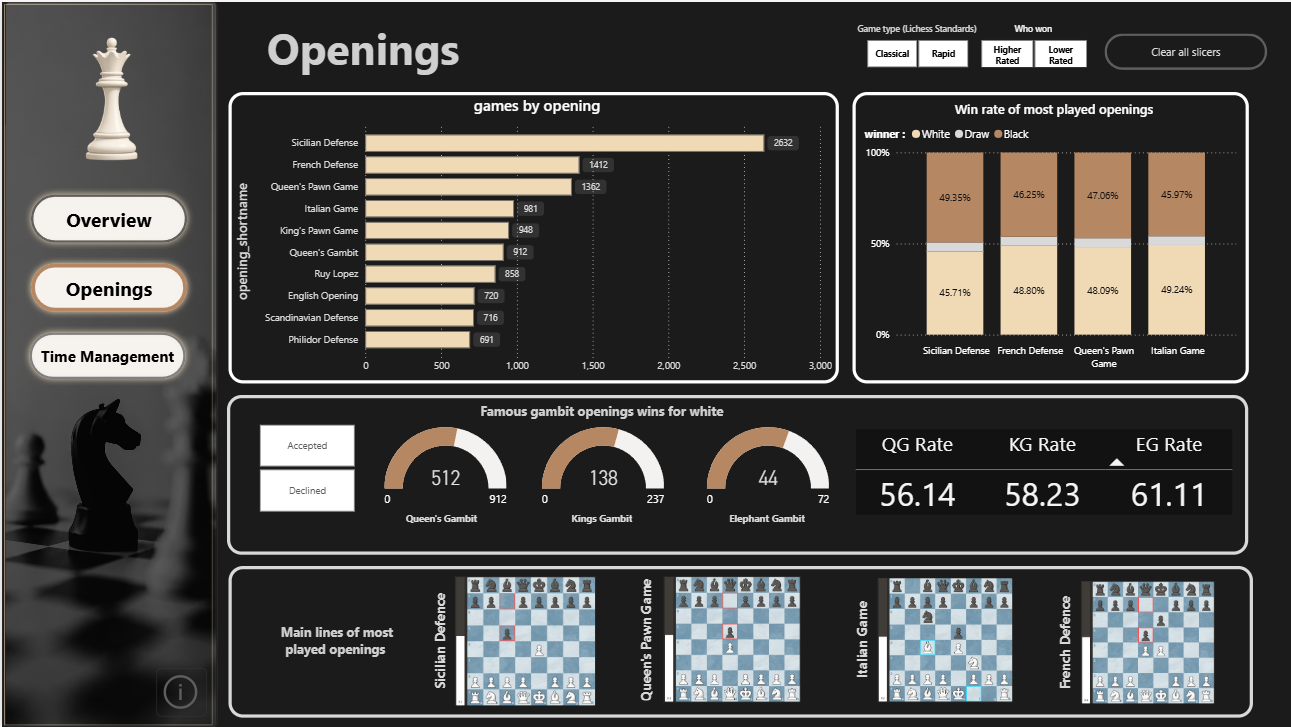

The page's visual inventory and layout, read from the dashboard file:
{"tool":"powerbi","page":{"name":"Openings","canvas":[1600,900],"ordinal":1},"visuals":[{"type":"shape","box":[279.6,487.3,1266.2,197.7],"z":0},{"type":"shape","box":[281.6,699,1270.1,187.7],"z":1000},{"type":"shape","box":[0,0,264.4,900],"z":2000},{"type":"clusteredBarChart","title":"games by opening","fields":{"Category":["chess_games.opening_shortname Hierarchy.opening_shortname","chess_games.opening_shortname Hierarchy.opening_variation"],"Y":["CountNonNull(chess_games.game_id)"]},"box":[281.6,111.8,756.9,361.5],"z":3000},{"type":"hundredPercentStackedColumnChart","title":"Win rate of most played openings","fields":{"Category":["chess_games.opening_shortname"],"Series":["chess_games.winner"],"Y":["CountNonNull(chess_games.winner)"]},"box":[1054.5,111.8,491.3,361.5],"z":4000},{"type":"slicer","title":"Game type (Lichess Standards)","fields":{"Values":["chess_games.game_type (Lichess standards)"]},"box":[1046,25.5,174.9,62],"z":5000},{"type":"slicer","title":"Who won","fields":{"Values":["chess_games.who won?"]},"box":[1188.2,25.5,180.4,54.7],"z":6000},{"type":"slicer","fields":{"Values":["chess_games.opening_response"]},"box":[293.6,517.2,167.4,121.8],"z":8000},{"type":"image","title":"Sicilian Defence","box":[501.3,713,293.6,159.8],"z":9000},{"type":"image","title":"French Defence","box":[1258.2,717,323.5,151.8],"z":10000},{"type":"image","title":"Italian Game","box":[1030.5,715,277.6,153.8],"z":11000},{"type":"image","box":[4,0,263.6,898.7],"z":12000},{"type":"actionButton","box":[28,229.7,209.7,75.9],"z":13000},{"type":"image","title":"Queen''s Pawn Game","box":[754.9,713,299.6,155.8],"z":14000},{"type":"actionButton","box":[26,401.4,209.7,73.9],"z":15000},{"type":"actionButton","box":[28,315.5,209.7,75.9],"z":16000},{"type":"actionButton","box":[175.7,822.8,61.9,59.9],"z":18000},{"type":"textbox","box":[325.5,764.9,179.7,57.9],"z":19000},{"type":"shape","box":[519.2,713,47.9,159.8],"z":20000},{"type":"gauge","title":"Queen''s gambit","fields":{"MaxValue":["chess_games.Queen's Gambit Games"],"Y":["chess_games.QG WINS"]},"box":[469,519.2,162,119.8],"z":21000},{"type":"shape","box":[1292.1,715,49.9,159.8],"z":22000},{"type":"shape","box":[1040.5,711,49.9,159.8],"z":23000},{"type":"gauge","title":"Elephant gambit","fields":{"Y":["chess_games.EG Wins"],"MaxValue":["chess_games.EG Games"]},"box":[868.5,519.2,162,119.8],"z":24000},{"type":"shape","box":[772.9,711,49.9,159.8],"z":25000},{"type":"gauge","title":"King''s gambit","fields":{"Y":["chess_games.KG Wins"],"MaxValue":["chess_games.KG Games"]},"box":[663.4,519.2,162,119.8],"z":26000},{"type":"actionButton","box":[1366.8,38.6,201.7,45.1],"z":27000},{"type":"textbox","box":[525.7,491.3,434.6,39.9],"z":28000},{"type":"textbox","box":[323.5,14,431.4,83.9],"z":29000},{"type":"shape","box":[460.9,613.1,167.4,51.9],"z":30000},{"type":"shape","box":[660.7,613.1,167.4,51.9],"z":31000},{"type":"tableEx","fields":{"Values":["chess_games.QG Rate","chess_games.KG Rate","chess_games.EG Rate"]},"box":[1052.5,525.2,479.3,139.8],"z":32000},{"type":"shape","box":[864.7,613.1,167.8,51.9],"z":33000},{"type":"image","box":[47.9,37.9,175.7,165.8],"z":34000}]}

Visuals, with their boxes in screenshot pixels (x1, y1, x2, y2), scaled from the page's 1600x900 canvas onto the 1291x727 screenshot:
shape: [left=226, top=394, right=1247, bottom=553]
shape: [left=227, top=565, right=1252, bottom=716]
shape: [left=0, top=0, right=213, bottom=726]
"games by opening" clusteredBarChart: [left=227, top=90, right=838, bottom=382]
"Win rate of most played openings" hundredPercentStackedColumnChart: [left=851, top=90, right=1247, bottom=382]
"Game type (Lichess Standards)" slicer: [left=844, top=21, right=985, bottom=71]
"Who won" slicer: [left=959, top=21, right=1104, bottom=65]
slicer - chess_games.opening_response: [left=237, top=418, right=372, bottom=516]
"Sicilian Defence" image: [left=404, top=576, right=641, bottom=705]
"French Defence" image: [left=1015, top=579, right=1276, bottom=702]
"Italian Game" image: [left=831, top=578, right=1055, bottom=702]
image: [left=3, top=0, right=216, bottom=726]
actionButton: [left=23, top=186, right=192, bottom=247]
"Queen''s Pawn Game" image: [left=609, top=576, right=851, bottom=702]
actionButton: [left=21, top=324, right=190, bottom=384]
actionButton: [left=23, top=255, right=192, bottom=316]
actionButton: [left=142, top=665, right=192, bottom=713]
textbox: [left=263, top=618, right=408, bottom=665]
shape: [left=419, top=576, right=458, bottom=705]
"Queen''s gambit" gauge: [left=378, top=419, right=509, bottom=516]
shape: [left=1043, top=578, right=1083, bottom=707]
shape: [left=840, top=574, right=880, bottom=703]
"Elephant gambit" gauge: [left=701, top=419, right=831, bottom=516]
shape: [left=624, top=574, right=664, bottom=703]
"King''s gambit" gauge: [left=535, top=419, right=666, bottom=516]
actionButton: [left=1103, top=31, right=1266, bottom=68]
textbox: [left=424, top=397, right=775, bottom=429]
textbox: [left=261, top=11, right=609, bottom=79]
shape: [left=372, top=495, right=507, bottom=537]
shape: [left=533, top=495, right=668, bottom=537]
tableEx - chess_games.QG Rate x chess_games.KG Rate: [left=849, top=424, right=1236, bottom=537]
shape: [left=698, top=495, right=833, bottom=537]
image: [left=39, top=31, right=180, bottom=165]
